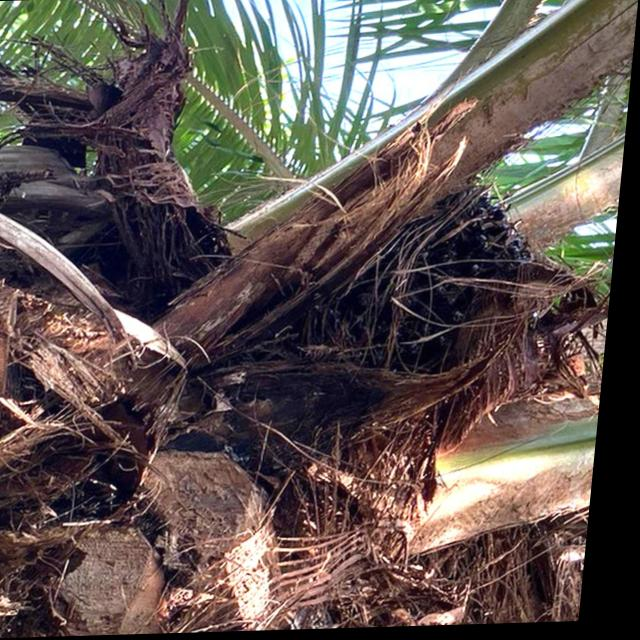unripe: (307, 191, 542, 390)
